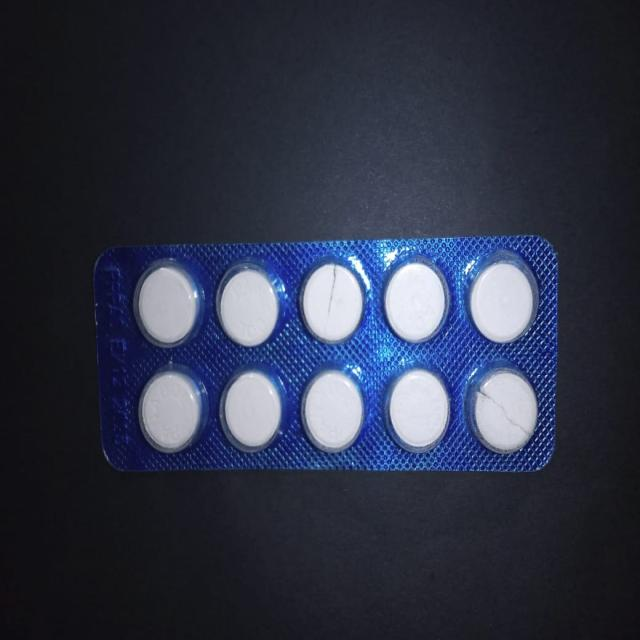defect: (467, 362, 543, 457), (296, 259, 366, 346)
